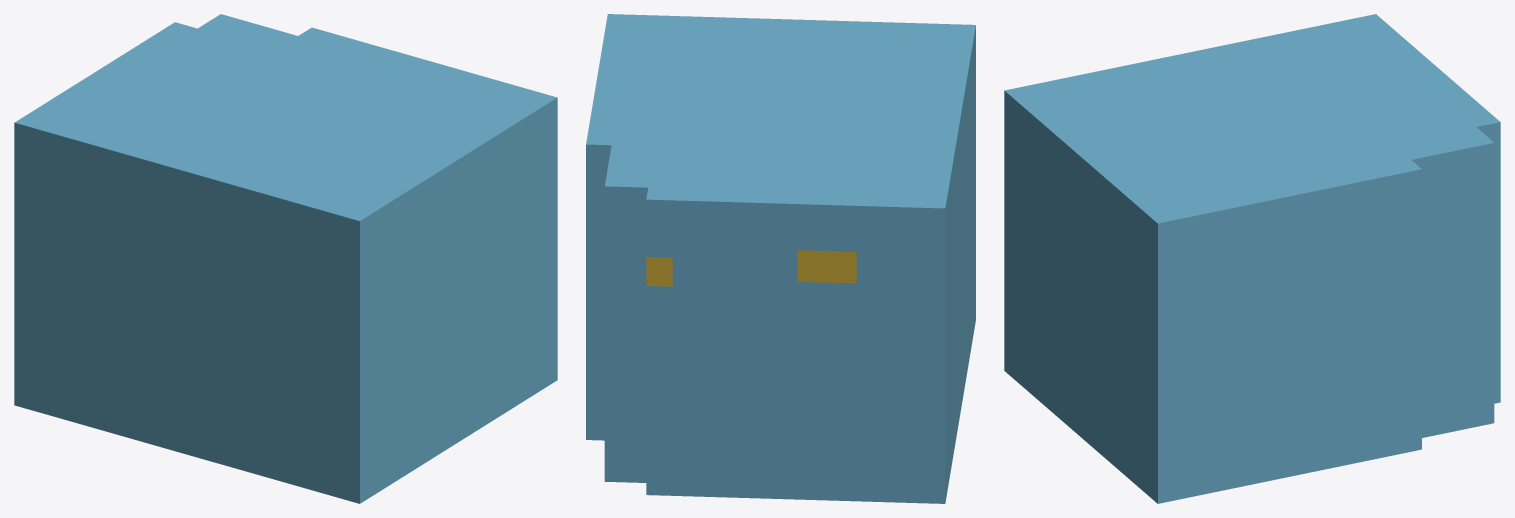
Rendered from bldg_6ae5aabb-263a-4b09-929b-e16b2b67c647.obj.
3 renders of one model, left to right at view 1: azimuth 30°, elevation 25°; view 2: azimuth 150°, elevation 25°; view 3: azimuth 270°, elevation 25°, orthographic. The views are drawn at different scales.
Size of the model in its own units: 16.46 by 10.27 by 16.47.
